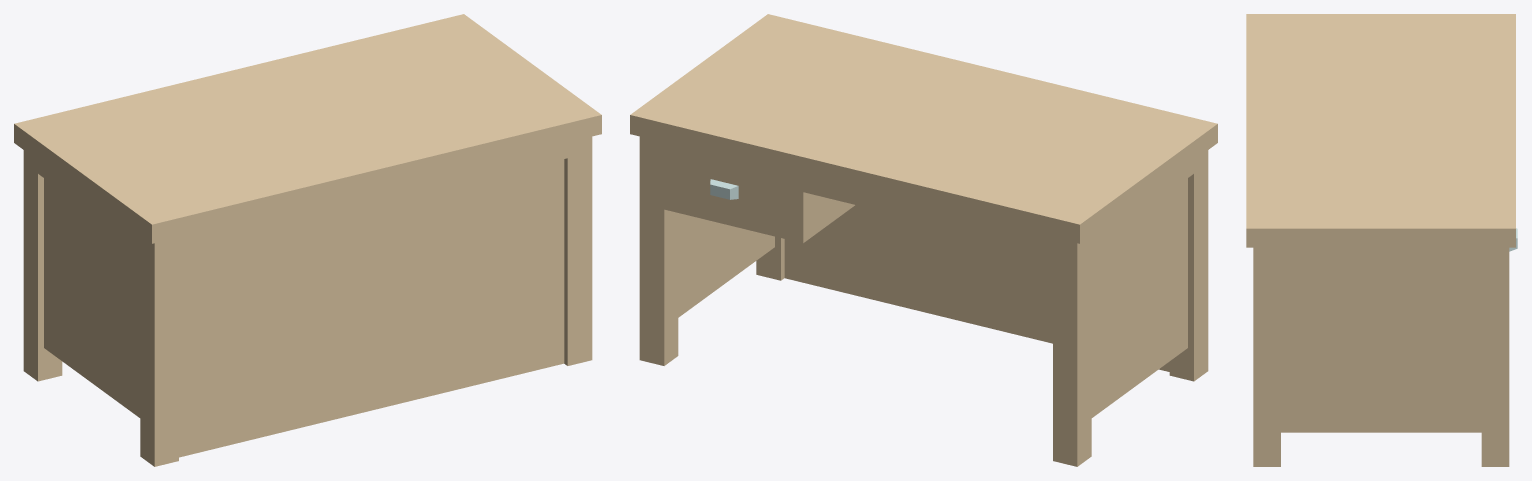
The model's file is desk.glb.
3 views of the same model, side by side, from view 1: azimuth 30°, elevation 25°; view 2: azimuth 150°, elevation 25°; view 3: azimuth 270°, elevation 25° (orthographic). The views are drawn at different scales.
Parts seen in each view (by area): view 1: desk; view 2: desk, drawer 2; view 3: desk.
Boxes of the visible parts, <box> form: desk: <box>14,14,601,466</box>; desk: <box>630,14,1217,466</box>; drawer 2: <box>664,158,784,219</box>; desk: <box>1246,14,1515,466</box>.
Size of the model in its own units: 7.34 by 3.84 by 3.92.
